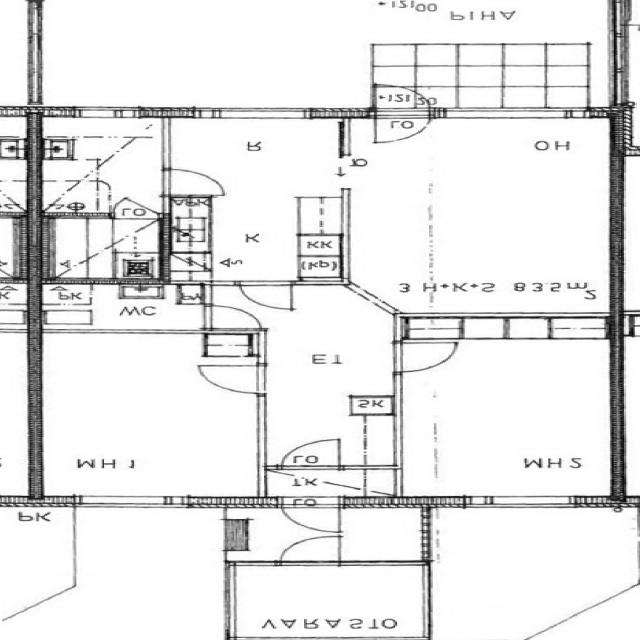door: (282, 496, 341, 535), (375, 107, 430, 144), (376, 81, 430, 118), (395, 343, 463, 372), (282, 533, 340, 565), (283, 438, 340, 470), (201, 366, 266, 393), (238, 280, 292, 310), (162, 170, 223, 195), (204, 305, 261, 328), (114, 190, 159, 218)
